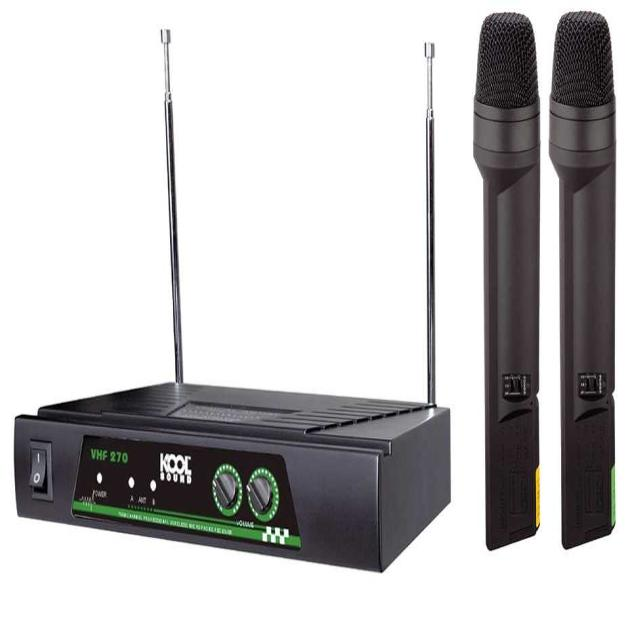microphone: (472, 9, 542, 543), (552, 12, 618, 546)
